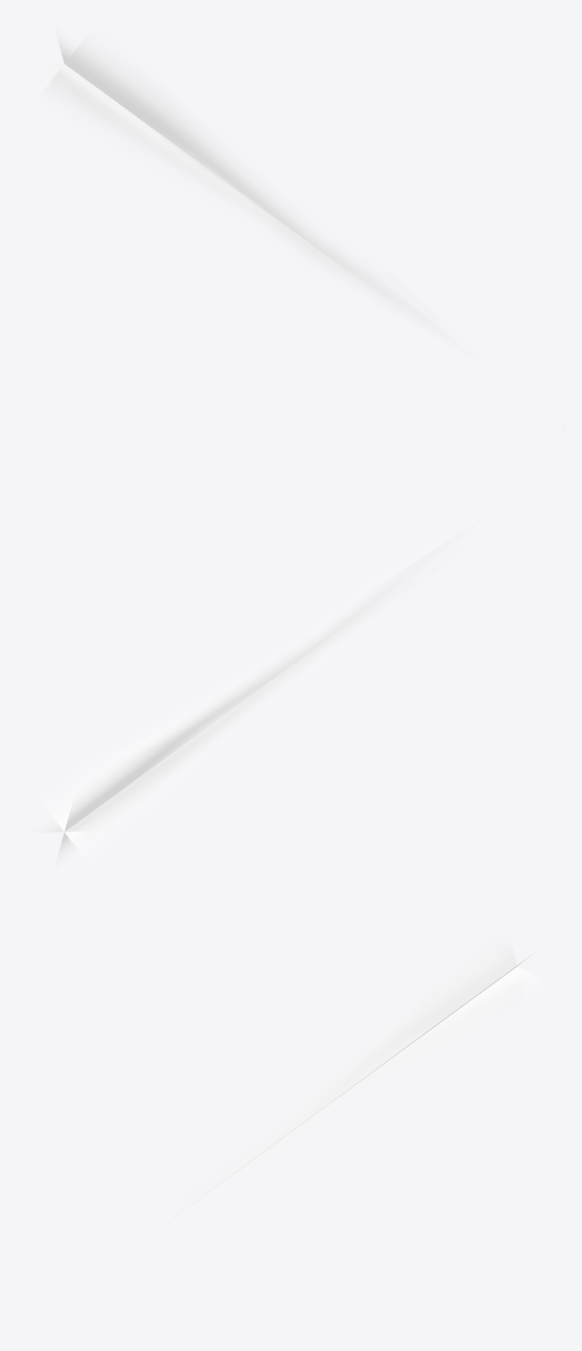
The model's file is fx_trail.glb.
3 views of the same model, one above another, from view 1: azimuth 30°, elevation 25°; view 2: azimuth 150°, elevation 25°; view 3: azimuth 330°, elevation 25° (orthographic).
Parts seen in each view (by area): view 1: Trail; view 2: Trail; view 3: Trail.
Boxes of the visible parts, x1=… form: Trail: x1=35, y1=35, x2=564, y2=430; Trail: x1=35, y1=465, x2=564, y2=860; Trail: x1=17, y1=933, x2=546, y2=1332.
Size of the model in its own units: 0.1159 by 0.1159 by 1.
1 material, 1 textured.
